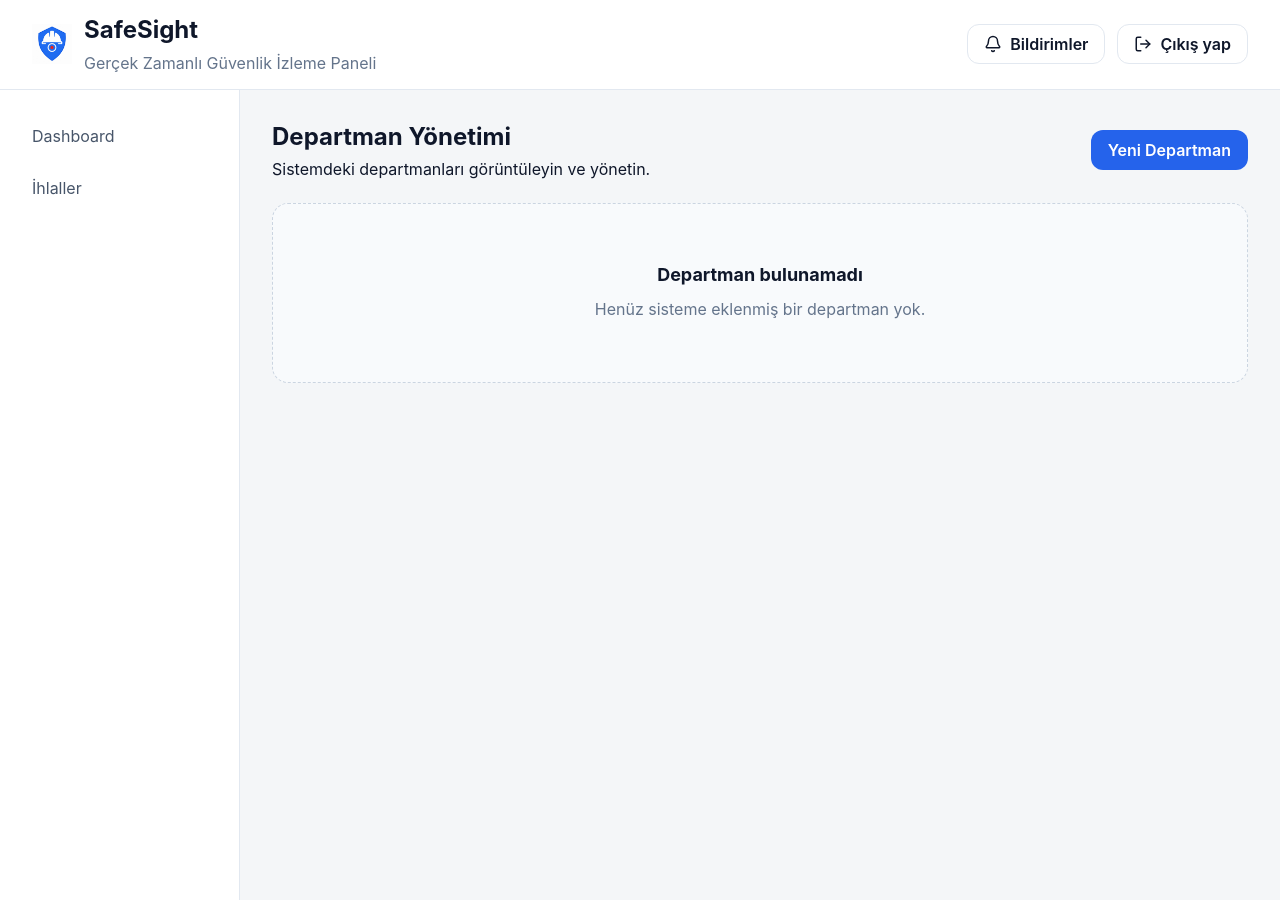
Test: DepartmentManagementPage › shows duplicate department error returned by backend
Click the button "Yeni Departman": (1169, 150) [1091,130,1248,170]
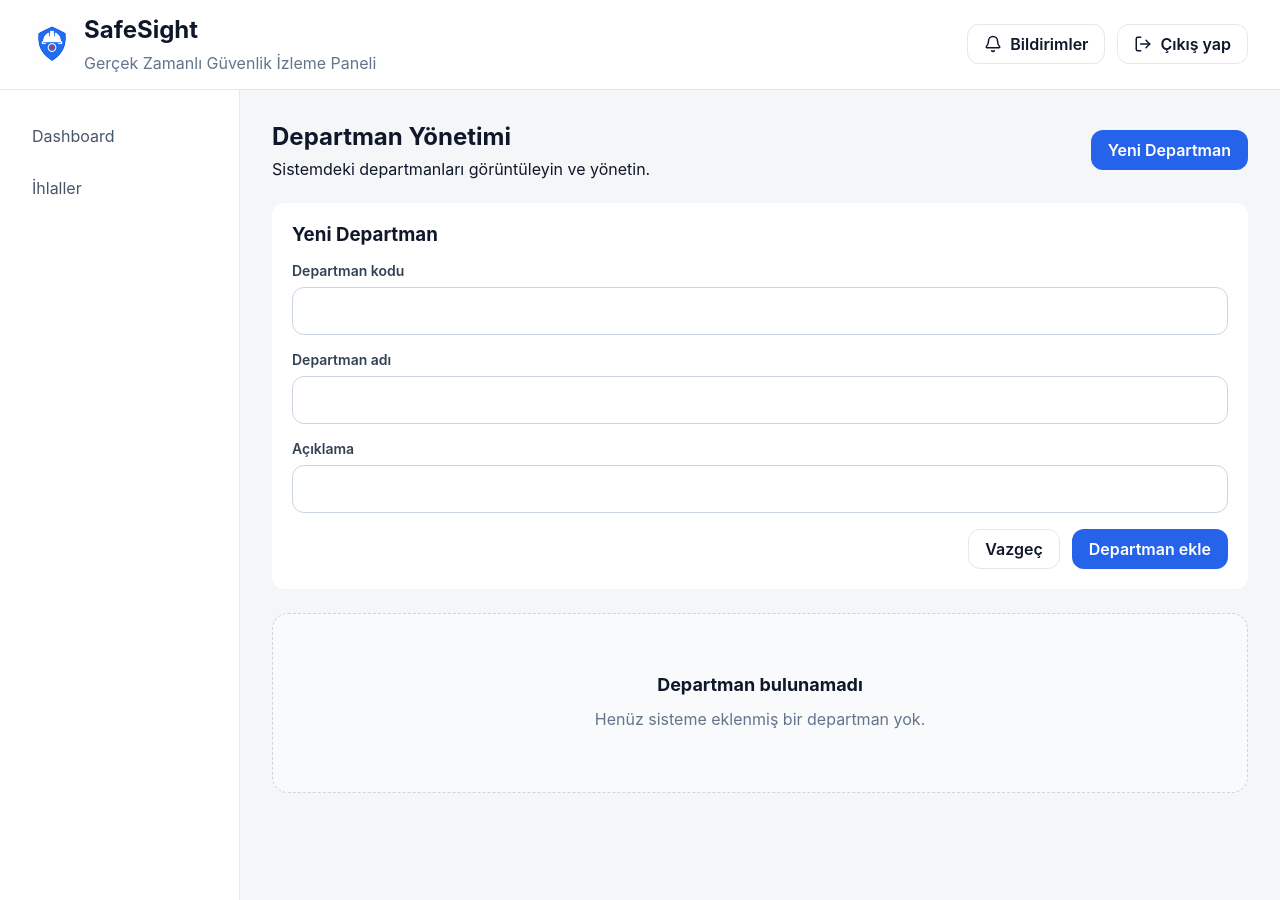
In the field labelled "Departman kodu": (760, 311) [292,287,1228,335], type "URETIM"
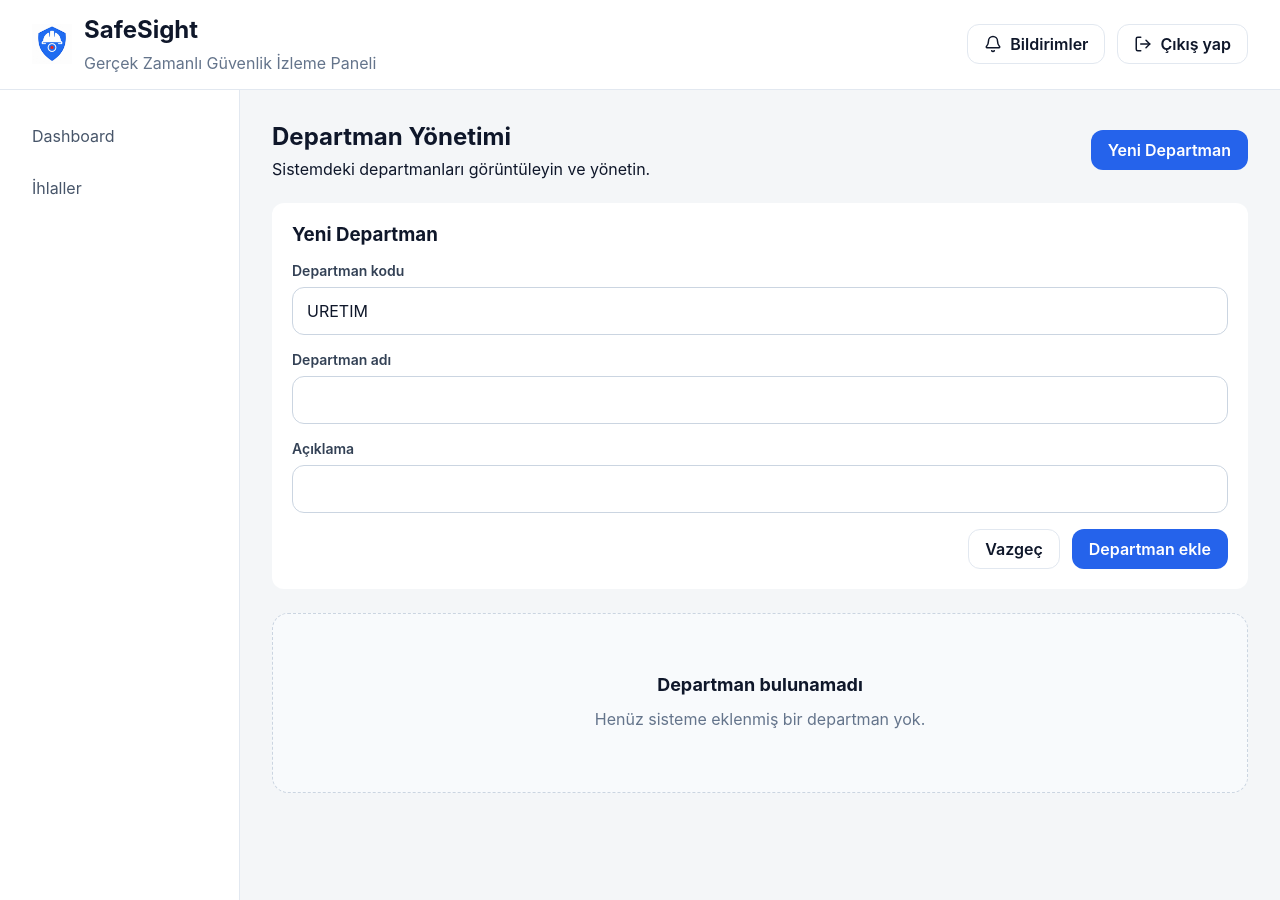
In the field labelled "Departman adı": (760, 400) [292,376,1228,424], type "Üretim"
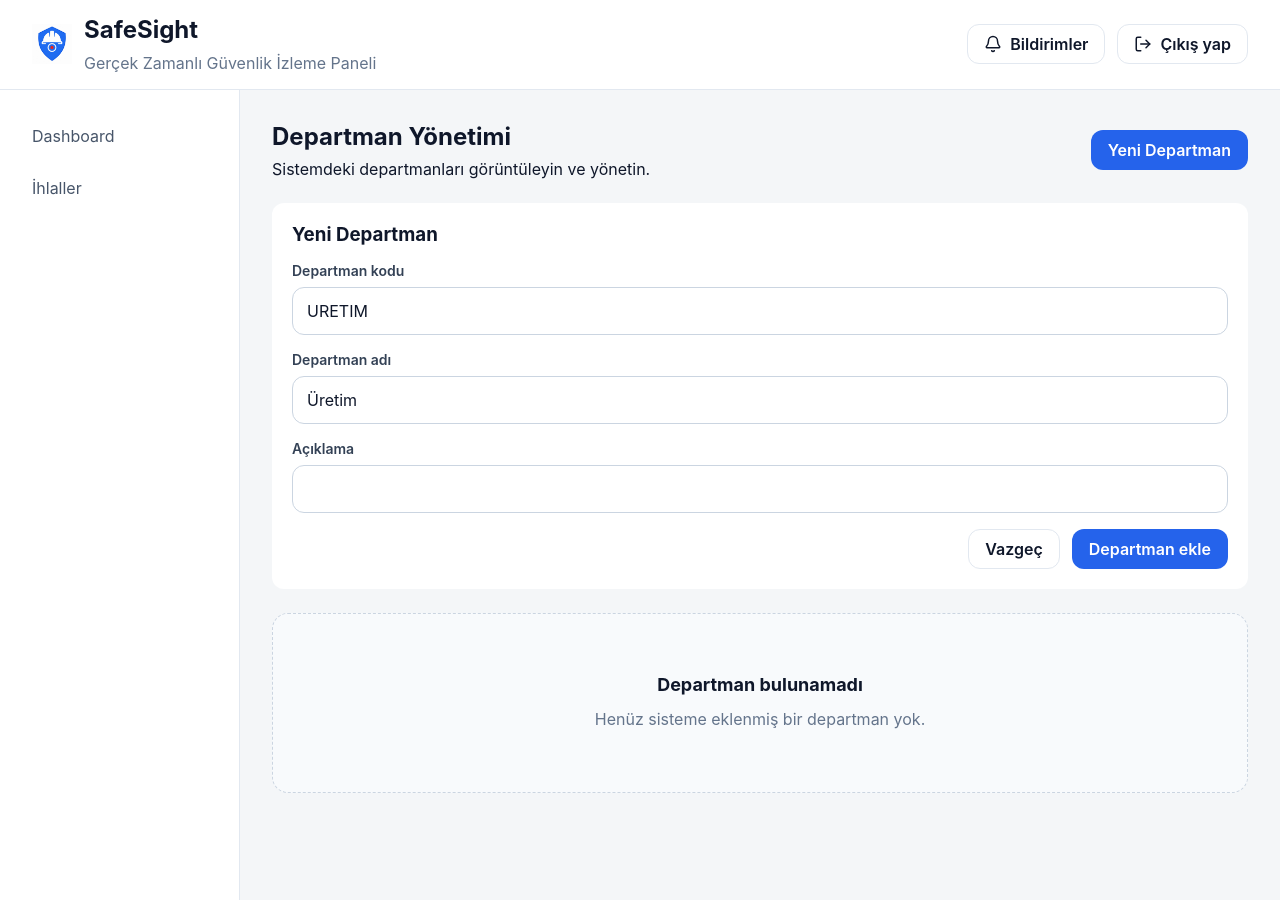
Click the button "Departman ekle": (1150, 549) [1072,529,1228,569]
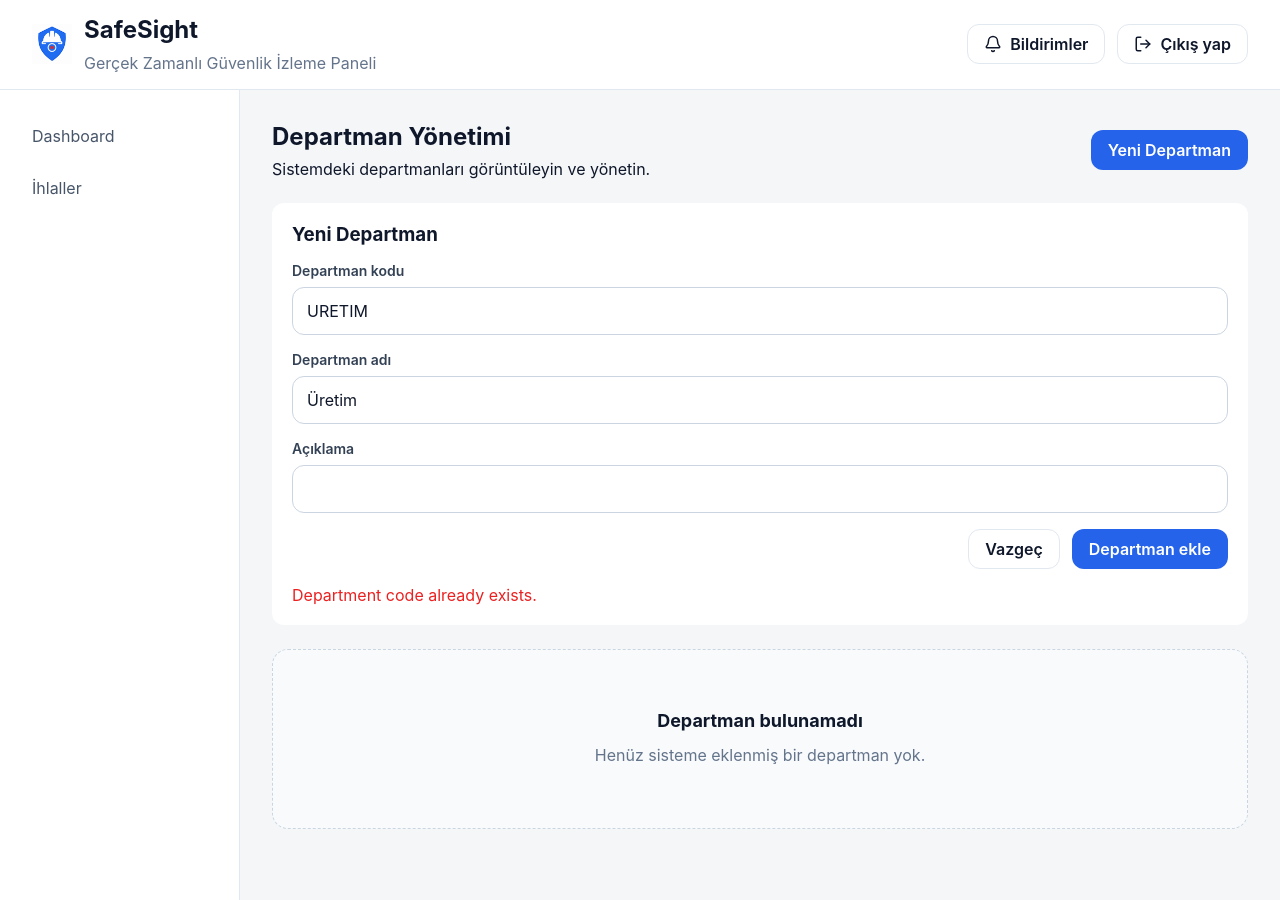
Result: the message reads "Department code already exists." at [292,585,537,605]
